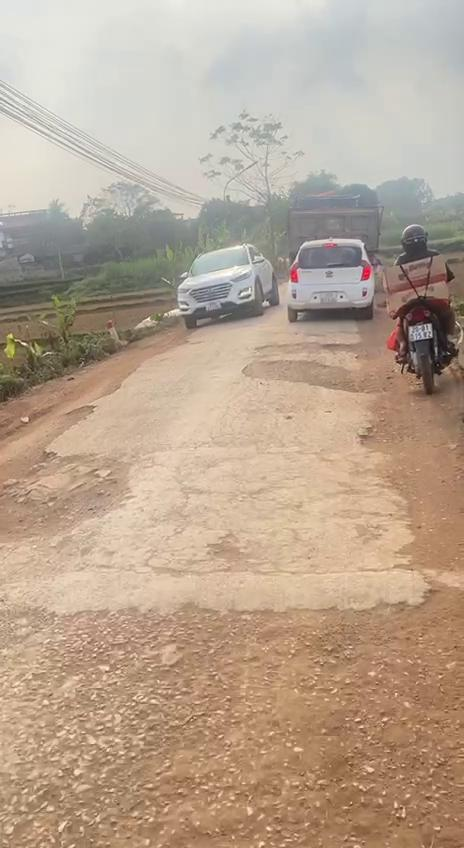pothole: (0, 402, 133, 540), (241, 339, 390, 393), (204, 534, 264, 576), (357, 414, 395, 458)
